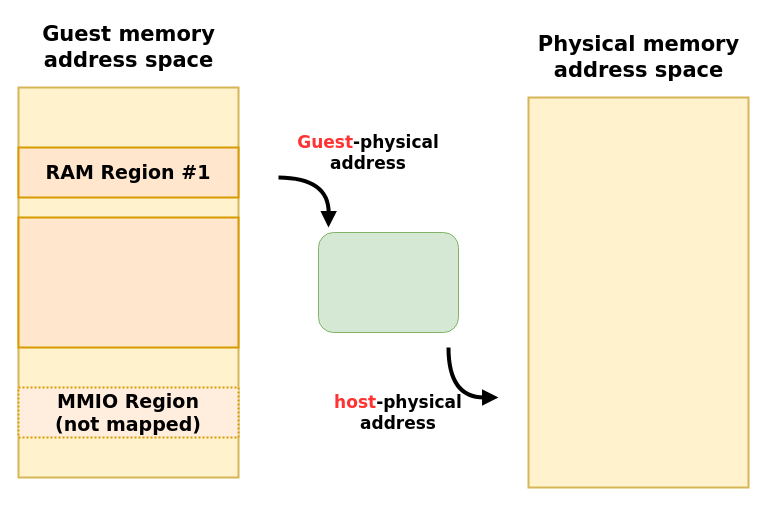
Image size: 766x505. Some labels were removed from this diagram. The shapes that lost their labels are listed below. From the top down, each one's centre as x and y in pixels, then its label:
the point at 128,282: RAM Region #2
the point at 388,282: Guest Page Table
